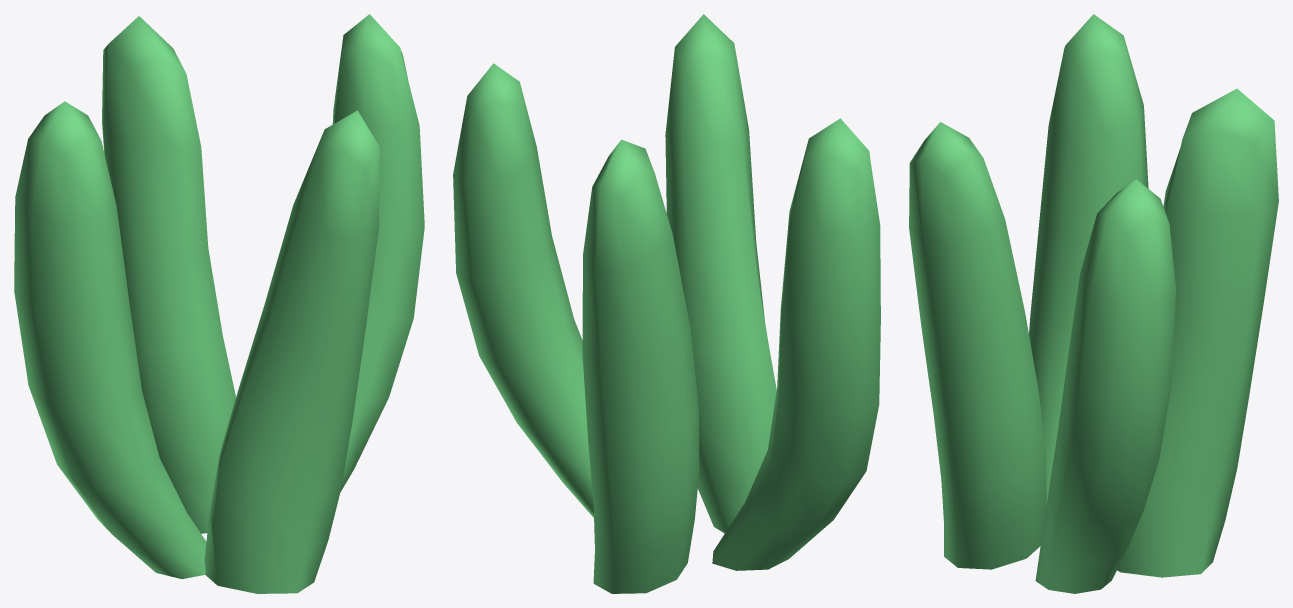
The model's file is Grass_A_01.fbx.
3 views of the same model, side by side, from view 1: azimuth 30°, elevation 25°; view 2: azimuth 150°, elevation 25°; view 3: azimuth 270°, elevation 25° (orthographic).
Visible parts, largest first — view 1: Grass_A_01_LOD0; view 2: Grass_A_01_LOD0; view 3: Grass_A_01_LOD0.
Boxes of the visible parts, x1=… form: Grass_A_01_LOD0: x1=14, y1=14, x2=424, y2=593; Grass_A_01_LOD0: x1=453, y1=14, x2=880, y2=593; Grass_A_01_LOD0: x1=909, y1=14, x2=1278, y2=593.
Size of what is drawn, in the model's own units: 285 by 319 by 229.
